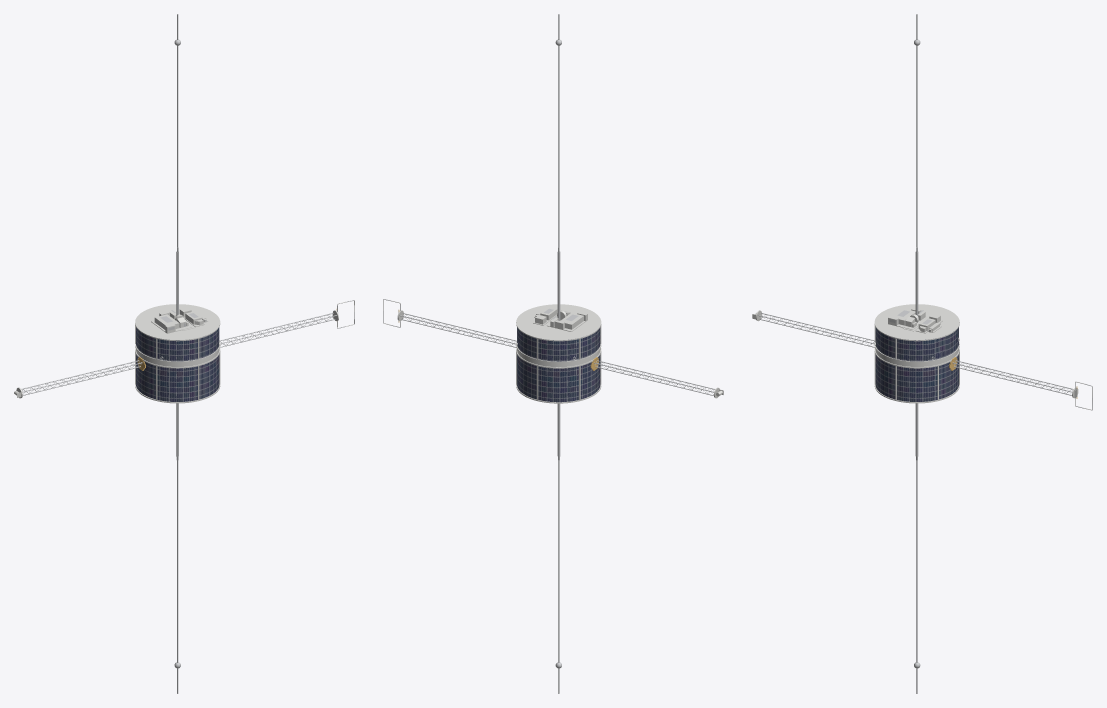
File: geotail.glb
The picture shows the model from 3 angles, left to right: view 1: azimuth 30°, elevation 25°; view 2: azimuth 150°, elevation 25°; view 3: azimuth 330°, elevation 25°; orthographic projection.
Visible parts, largest first — view 1: Layer_0; view 2: Layer_0; view 3: Layer_0.
Part boxes in pixels (<box>): Layer_0: <box>14,14,354,693</box>; Layer_0: <box>383,14,723,693</box>; Layer_0: <box>752,14,1092,693</box>.
Bounding box in the file's own units: 10.32 × 19.76 × 2.25.
4 materials, 1 textured.
